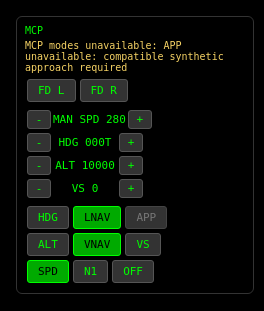
Scenario: RfsMCP › shows route managed speed until the player edits selected speed intervention
This screenshot has width=264, height=311.
Expected: the text "MAN SPD 280" is shown, [53,113,126,126]
Click the button named "SPD +5": (140, 120) [128,110,152,129]
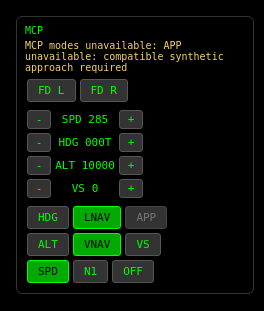
Expected: the text "SPD 285" is shown, [62,113,108,126]
